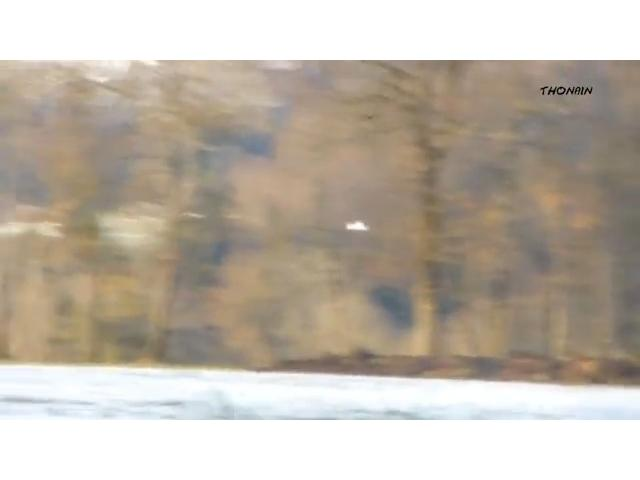Anti-Drone: (334, 208, 380, 253)
